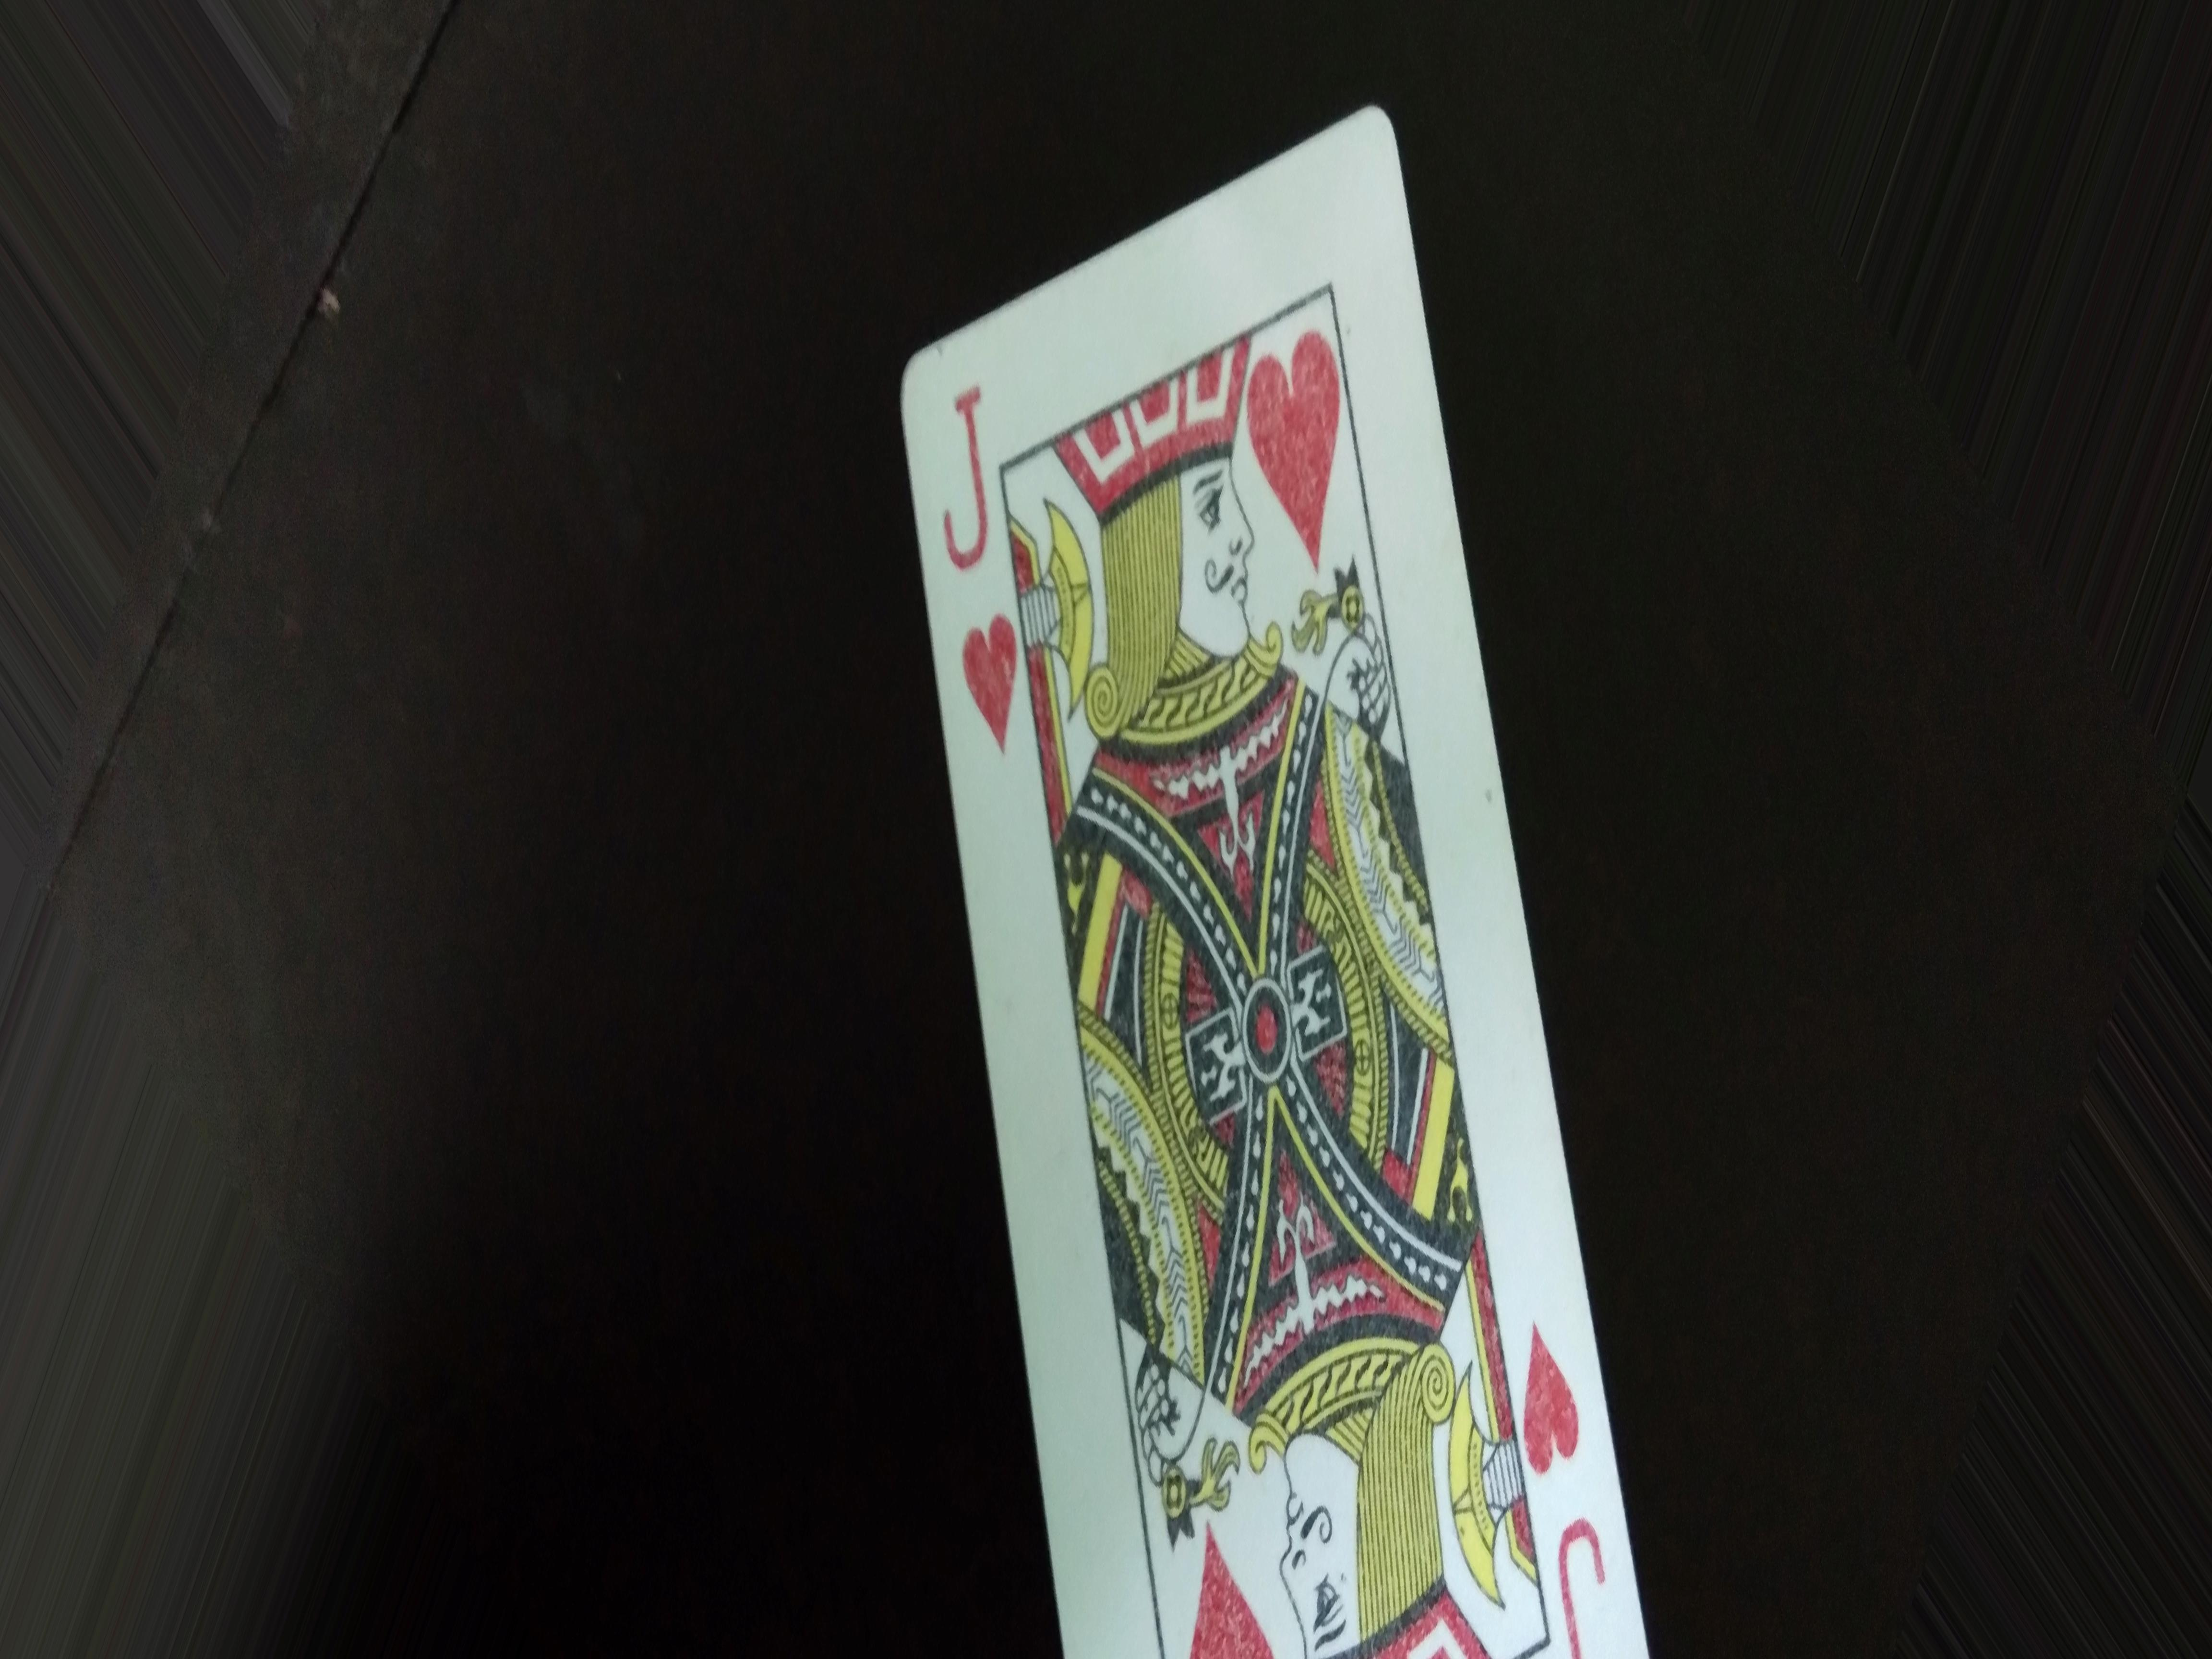JH: (934, 373, 1019, 742)
